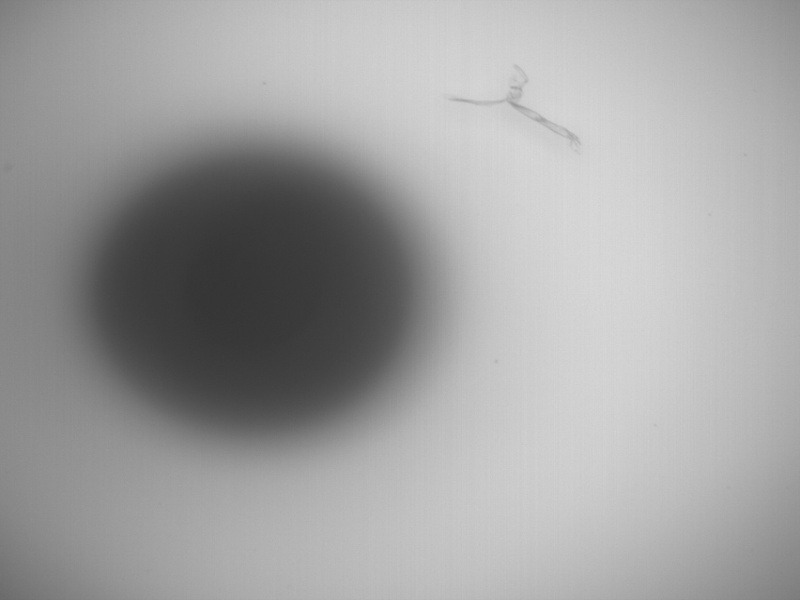bead: (91, 148, 421, 438)
fiber: (445, 61, 591, 155)
